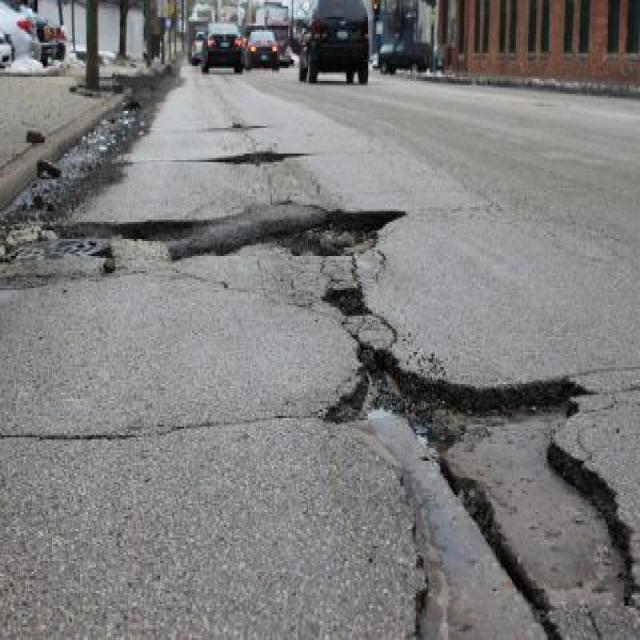pothole: (317, 339, 639, 638), (288, 202, 410, 260), (57, 211, 208, 243), (320, 281, 375, 318), (216, 147, 303, 164)
